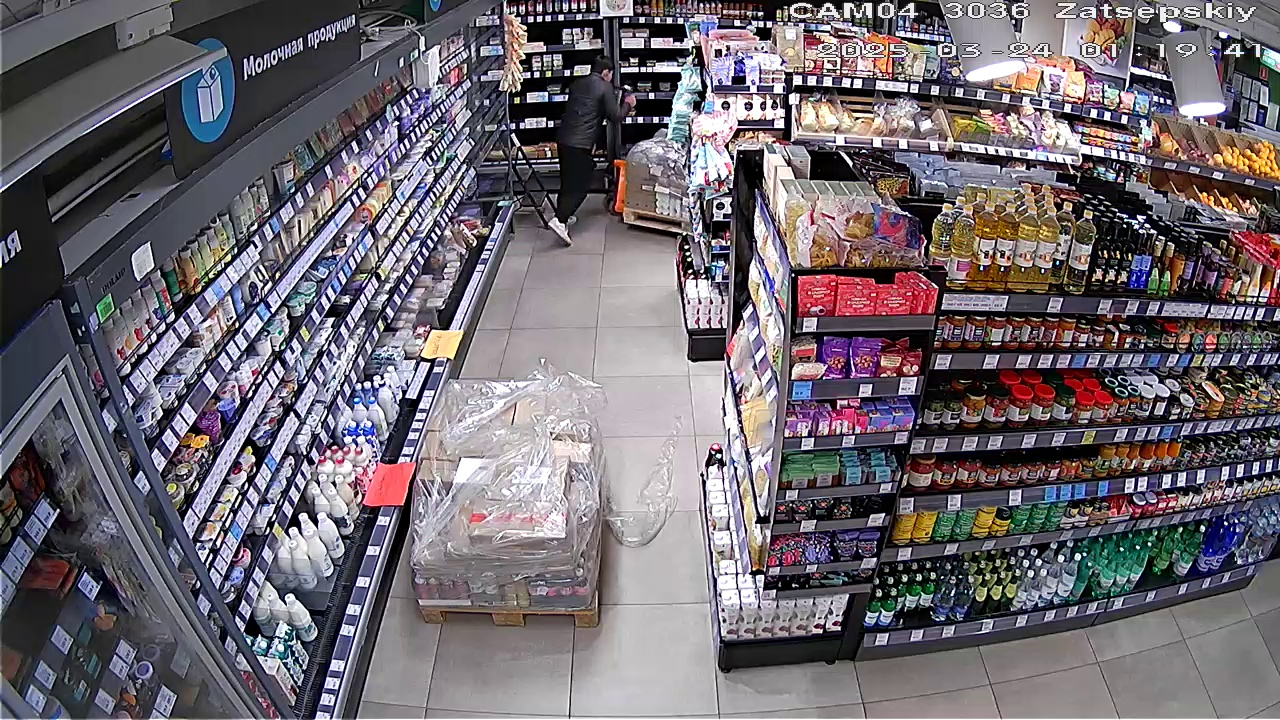Human: (531, 52, 638, 255)
pallet: (408, 372, 612, 627)
